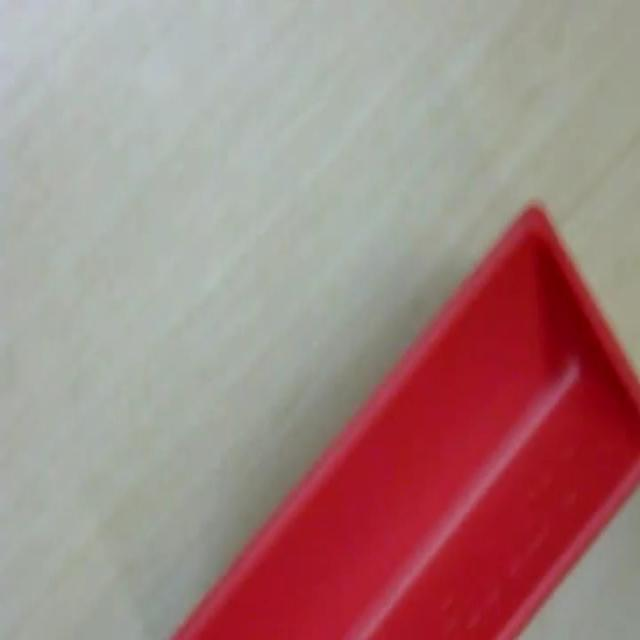red_block: (168, 198, 639, 638)
